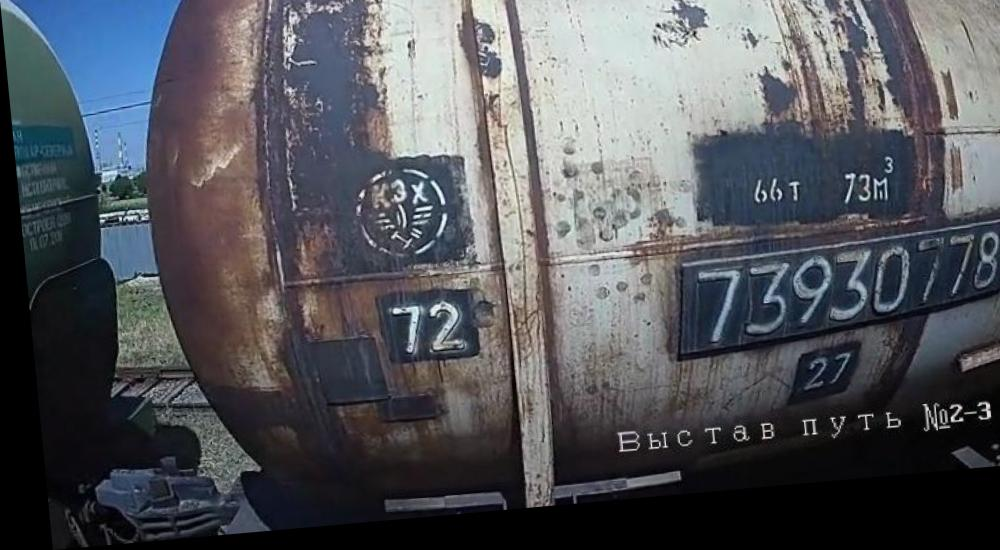Wagon-number: (675, 245, 1000, 363)
